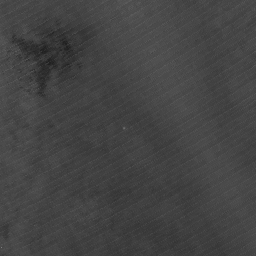Target: (120, 124, 128, 130)
